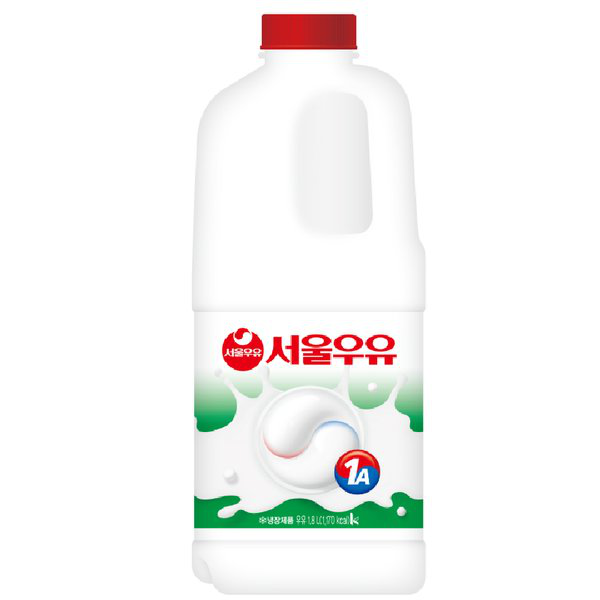milk: (193, 14, 424, 596)
